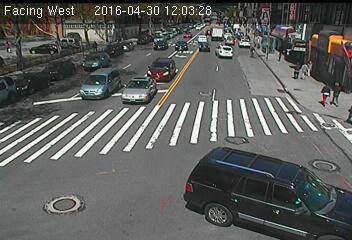neg: (1, 81, 25, 114), (264, 149, 286, 178), (308, 149, 326, 173), (304, 120, 321, 142), (35, 146, 51, 167), (191, 85, 206, 105), (47, 83, 62, 103), (111, 73, 125, 91), (39, 33, 52, 51), (206, 66, 219, 83), (265, 10, 278, 27), (181, 128, 194, 145), (178, 34, 190, 51), (146, 106, 158, 123), (320, 19, 332, 36), (206, 44, 218, 60), (27, 63, 39, 78), (295, 14, 307, 29), (131, 30, 142, 46), (156, 58, 167, 73), (240, 71, 251, 86), (248, 43, 258, 57), (266, 98, 276, 112), (137, 89, 147, 102), (226, 132, 236, 145), (86, 138, 95, 151), (236, 15, 245, 27), (126, 124, 134, 135)
pos: (315, 81, 333, 105), (327, 78, 345, 102), (288, 58, 306, 82), (297, 60, 312, 80), (275, 48, 286, 61), (305, 58, 315, 72), (4, 39, 14, 52), (91, 39, 99, 49)
